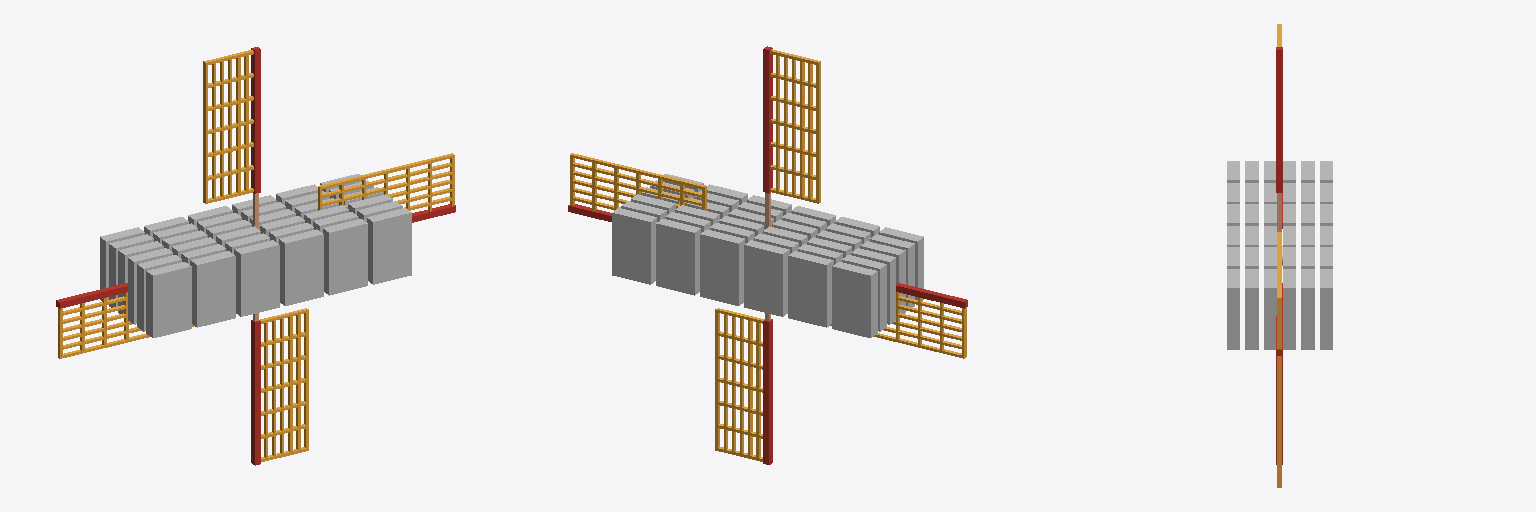
3 renders of one model, left to right at view 1: azimuth 30°, elevation 25°; view 2: azimuth 150°, elevation 25°; view 3: azimuth 270°, elevation 25°, orthographic.
Parts seen in each view (by area): view 1: Cube_Cube.001, Plane.001; view 2: Cube_Cube.001, Plane.001; view 3: Cube_Cube.001, Plane.001.
Boxes of the visible parts, <box> form: Cube_Cube.001: <box>100,174,411,337</box>; Plane.001: <box>56,47,455,465</box>; Cube_Cube.001: <box>612,174,923,337</box>; Plane.001: <box>568,46,967,464</box>; Cube_Cube.001: <box>1227,161,1332,349</box>; Plane.001: <box>1276,24,1282,487</box>.
Size of the model in its own units: 13.24 by 13.24 by 3.09.
Materials: 2 (1 with a texture image).